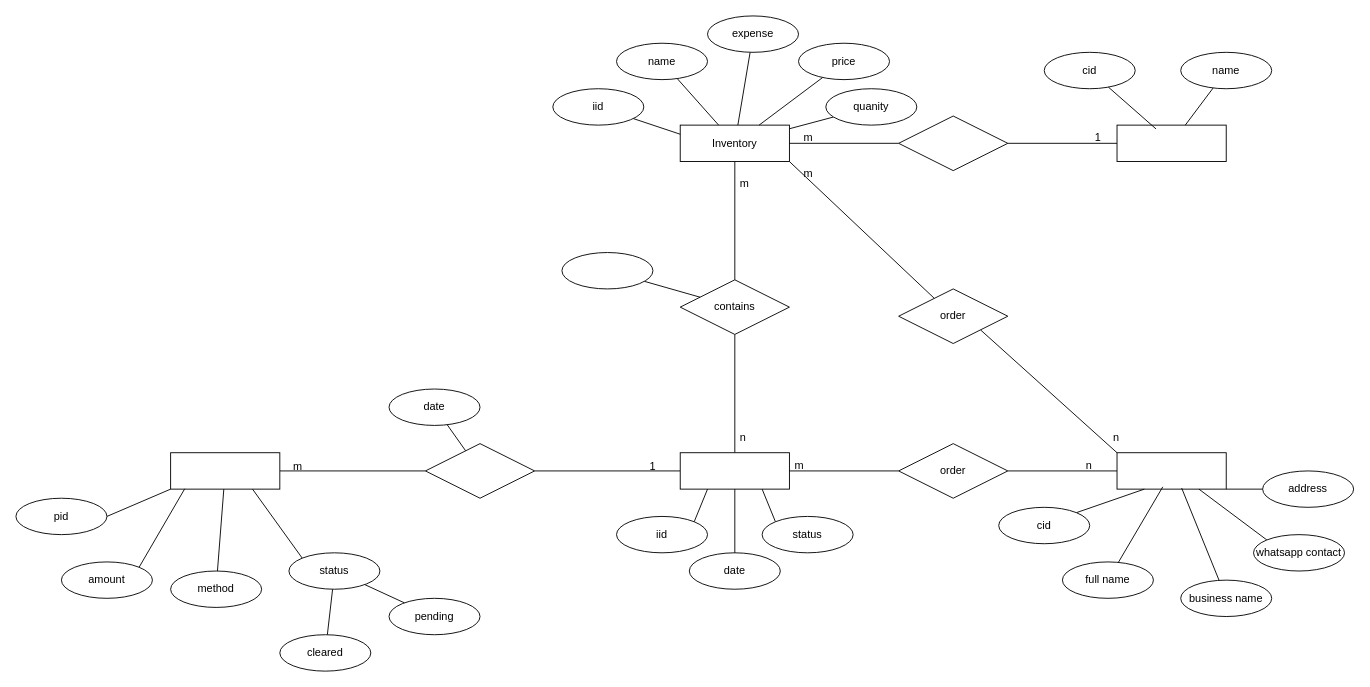
Image size: 1370x687. Some labels were removed from this diagram. Each missing label, with the centre of its shape:
Category: point 1171,143
Customer: point 1171,470
Invoice: point 734,470
own: point 953,143
pay: point 480,470
Payment: point 225,470
qty: point 607,270
